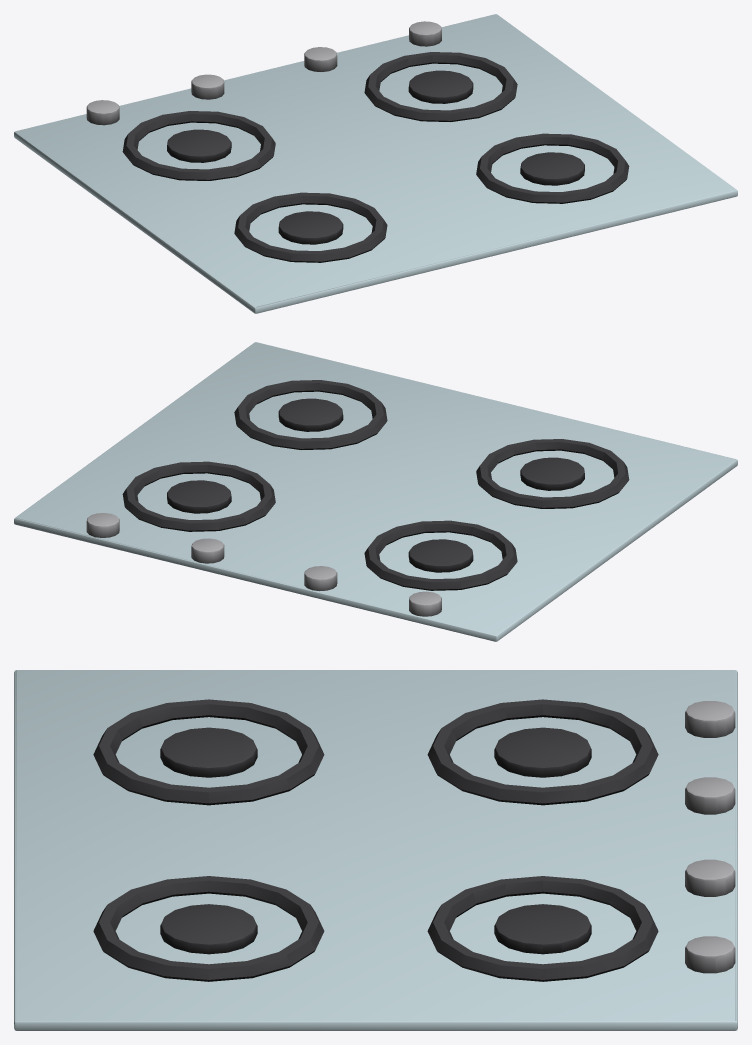
File: hob_4burner.glb
The picture shows the model from 3 angles, top to bottom: view 1: azimuth 30°, elevation 25°; view 2: azimuth 150°, elevation 25°; view 3: azimuth 270°, elevation 25°; orthographic projection. The views are drawn at different scales.
Parts seen in each view (by area): view 1: hob_4burner; view 2: hob_4burner; view 3: hob_4burner.
Part boxes in pixels (<box>): hob_4burner: <box>14,14,737,313</box>; hob_4burner: <box>14,342,737,641</box>; hob_4burner: <box>14,670,737,1030</box>.
Bounding box in the file's own units: 0.6 × 0.022 × 0.52.
